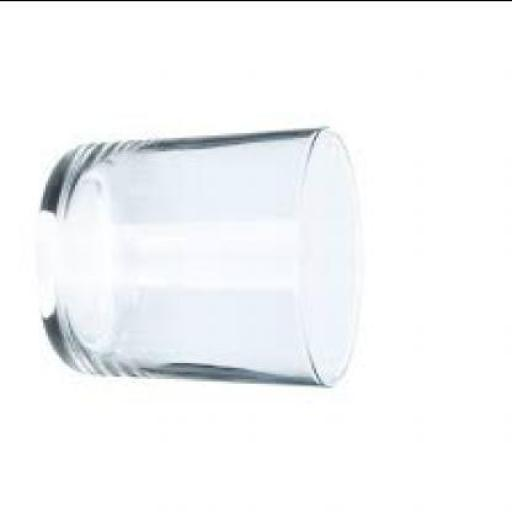glass: (43, 130, 362, 389)
